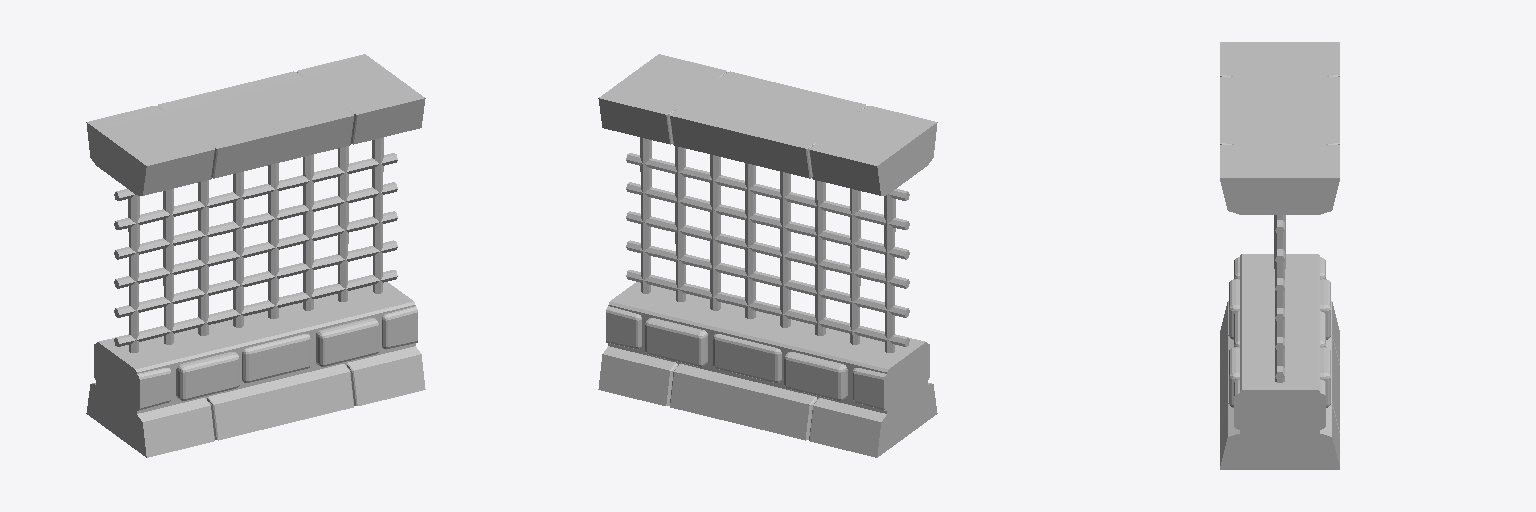
File: wall_gate.obj
The picture shows the model from 3 angles: view 1: azimuth 30°, elevation 25°; view 2: azimuth 150°, elevation 25°; view 3: azimuth 270°, elevation 25°; orthographic projection.
Visible parts, largest first — view 1: wall_gate_Cube.2927; view 2: wall_gate_Cube.2927; view 3: wall_gate_Cube.2927.
Boxes of the visible parts, x1=… form: wall_gate_Cube.2927: x1=86, y1=54, x2=425, y2=457; wall_gate_Cube.2927: x1=598, y1=54, x2=937, y2=457; wall_gate_Cube.2927: x1=1220, y1=42, x2=1339, y2=469.
Size of the model in its own units: 4 by 4 by 1.5.